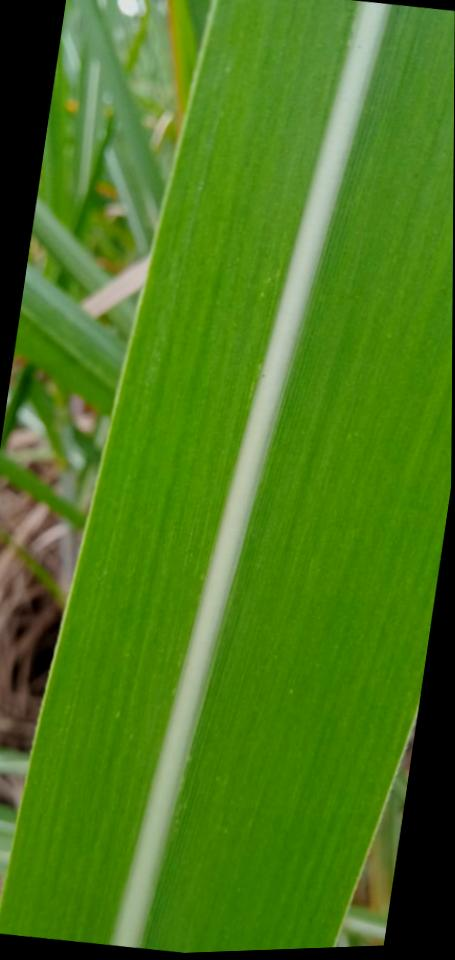Healthy: (0, 0, 455, 953), (15, 264, 131, 416)
